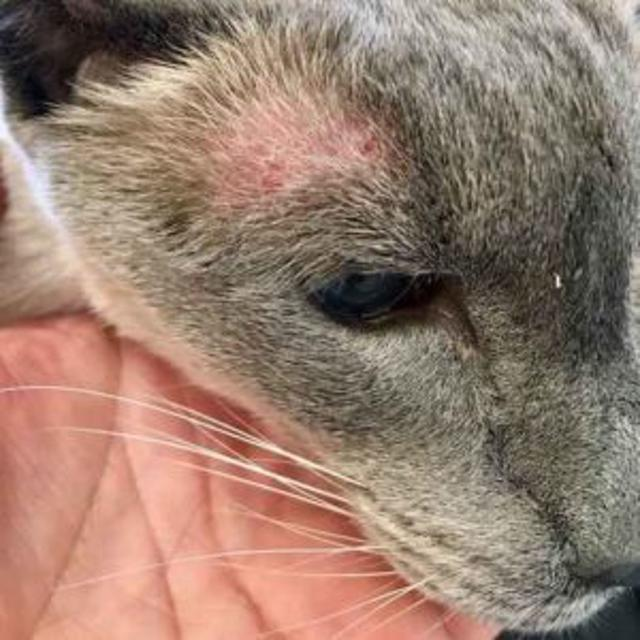ringworm: (233, 95, 373, 183)
